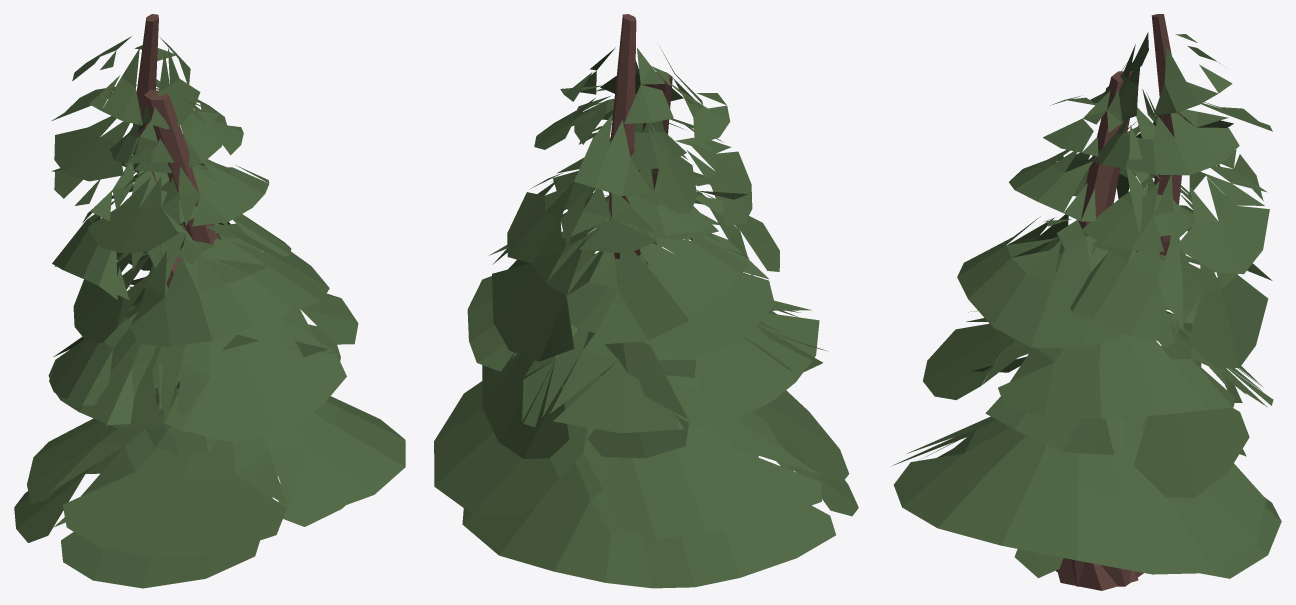
The model's file is highland_pines.glb.
3 renders of one model, left to right at view 1: azimuth 30°, elevation 25°; view 2: azimuth 150°, elevation 25°; view 3: azimuth 270°, elevation 25°, orthographic. The views are drawn at different scales.
Visible parts, largest first — view 1: PineA_Canopy, PineB_Canopy, PineA_Trunk, PineB_Trunk; view 2: PineB_Canopy, PineA_Canopy, PineB_Trunk; view 3: PineA_Canopy, PineB_Canopy, PineB_Trunk, PineA_Trunk.
Part boxes in pixels (x1,y1,x2,y2): PineA_Canopy: [27, 94, 405, 557]; PineB_Canopy: [14, 36, 345, 588]; PineA_Trunk: [144, 90, 218, 244]; PineB_Trunk: [133, 14, 180, 388]; PineB_Canopy: [462, 46, 858, 588]; PineA_Canopy: [434, 88, 849, 539]; PineB_Trunk: [608, 14, 640, 281]; PineA_Canopy: [892, 89, 1273, 574]; PineB_Canopy: [926, 32, 1281, 578]; PineB_Trunk: [1057, 14, 1183, 590]; PineA_Trunk: [1055, 71, 1143, 586].
Bounding box in the file's own units: 8.31 × 11.8 × 7.68.
